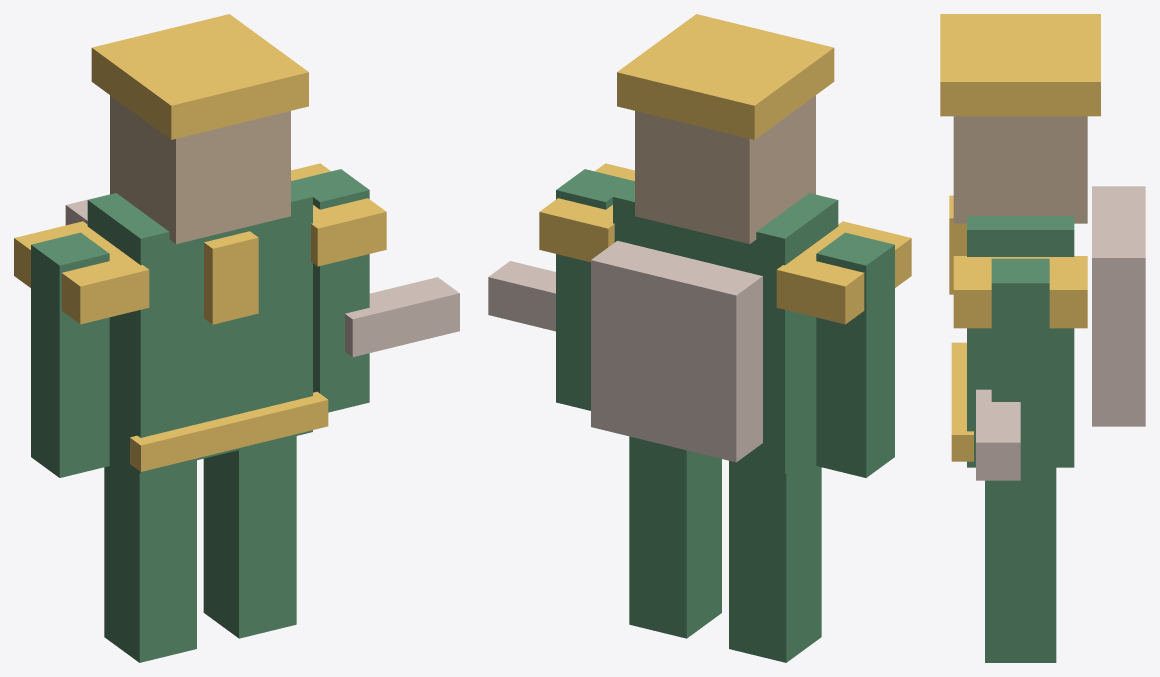
File: 18_vela_nullborne_tactician_of_hushbloom.glb
3 views of the same model, side by side, from view 1: azimuth 30°, elevation 25°; view 2: azimuth 150°, elevation 25°; view 3: azimuth 270°, elevation 25° (orthographic).
Parts seen in each view (by area): view 1: Vela Nullborne, Tactician of Hushbloom; view 2: Vela Nullborne, Tactician of Hushbloom; view 3: Vela Nullborne, Tactician of Hushbloom.
Boxes of the visible parts, x1,y1,x2,y2 form: Vela Nullborne, Tactician of Hushbloom: (14,14,459,662); Vela Nullborne, Tactician of Hushbloom: (488,14,911,662); Vela Nullborne, Tactician of Hushbloom: (940,14,1145,662).
Size of the model in its own units: 0.9984 by 1.39 by 0.4481.
